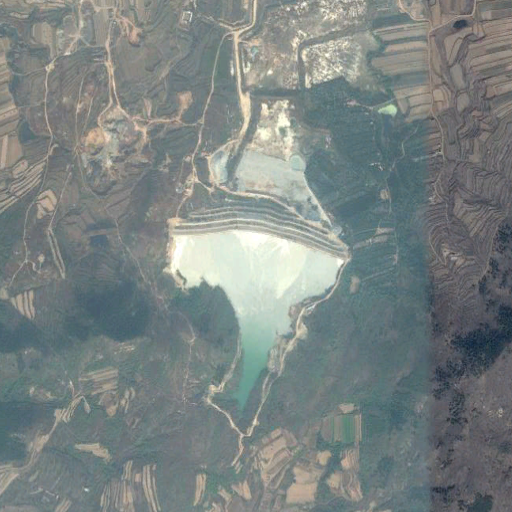tp: (167, 203, 350, 412)
